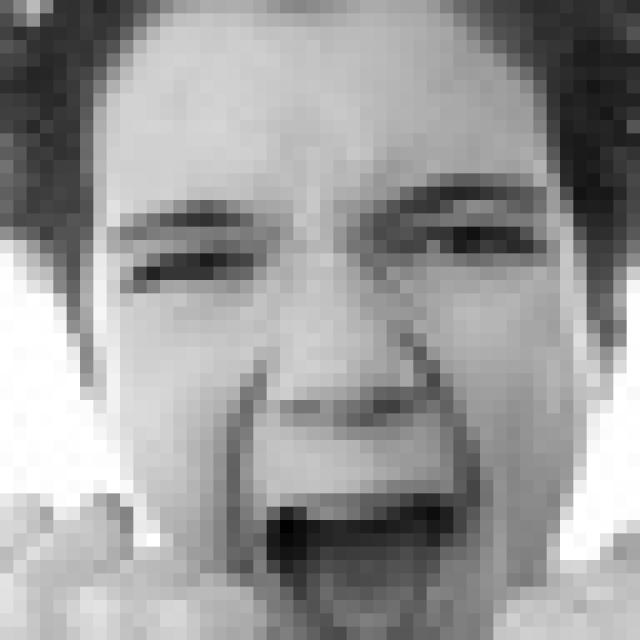angry: (102, 169, 563, 640)
